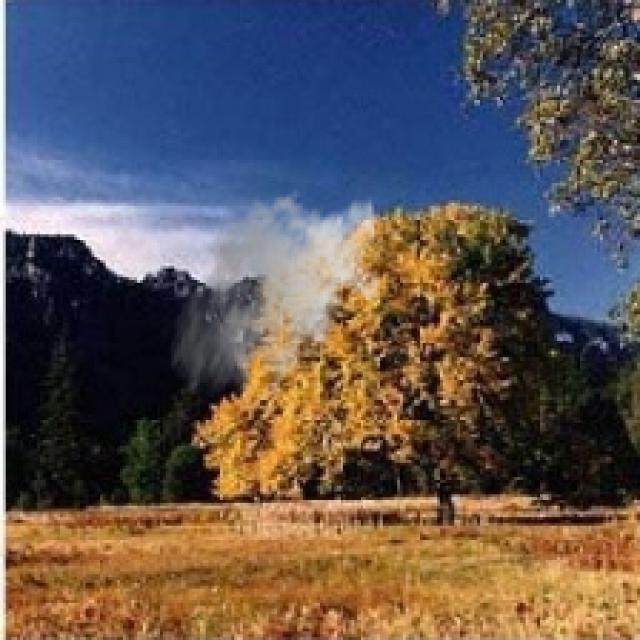Smoke: (168, 186, 382, 414)
